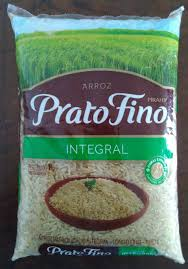arroz: (4, 4, 187, 264)
